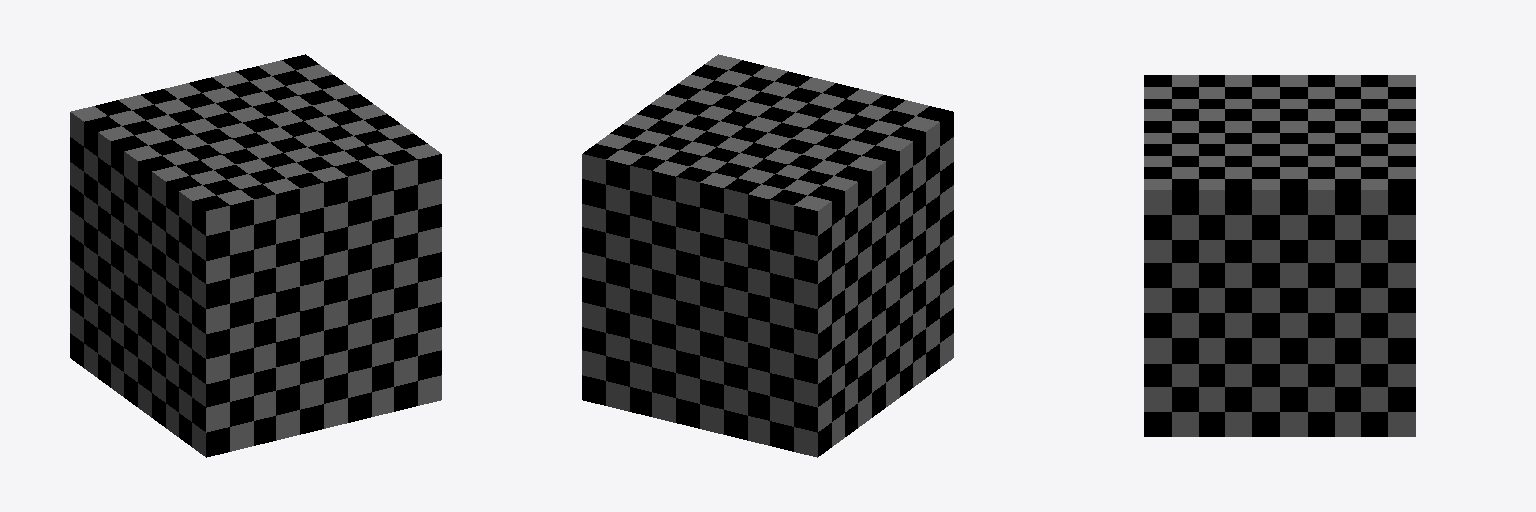
The picture shows the model from 3 angles: view 1: azimuth 30°, elevation 25°; view 2: azimuth 150°, elevation 25°; view 3: azimuth 270°, elevation 25°; orthographic projection.
Parts seen in each view (by area): view 1: pCube1; view 2: pCube1; view 3: pCube1.
Part boxes in pixels (left/top/right/bottom): pCube1: left=70, top=54, right=441, bottom=457; pCube1: left=582, top=54, right=953, bottom=457; pCube1: left=1144, top=75, right=1415, bottom=436.
Bounding box in the file's own units: 3.93 × 3.93 × 3.93.
1 materials, 1 textured.